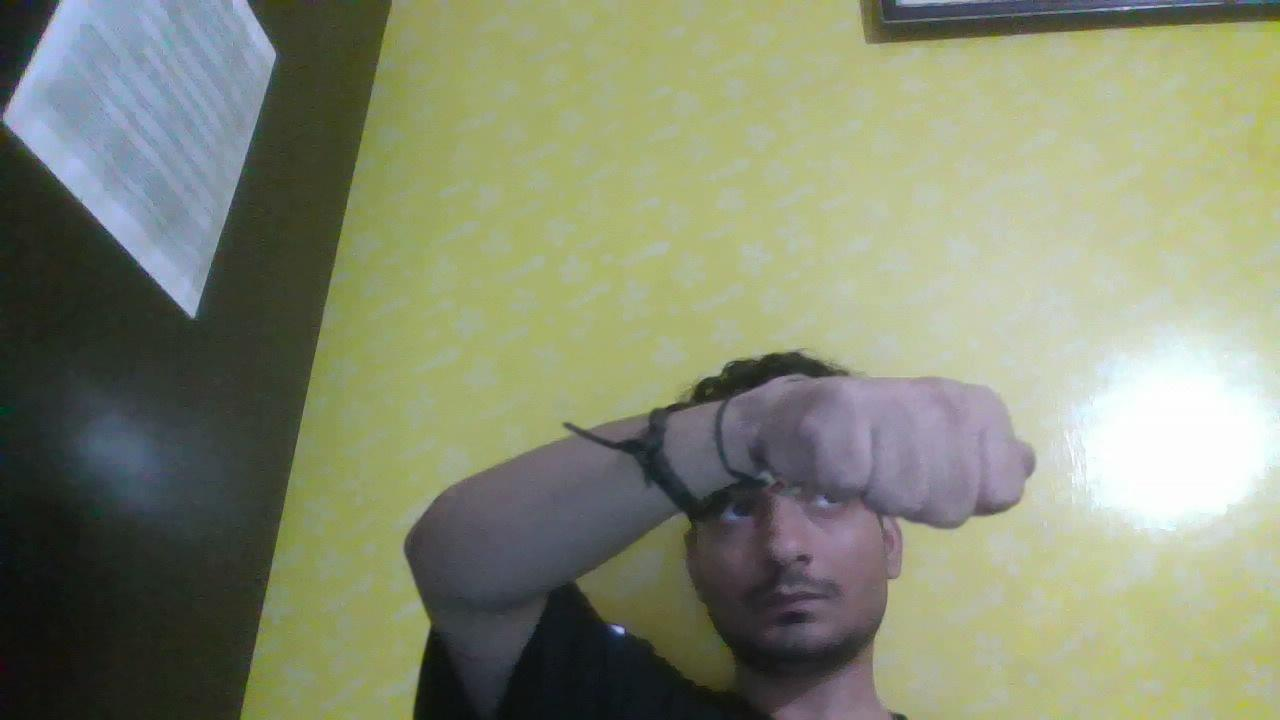Yes: (793, 355, 1066, 550)
